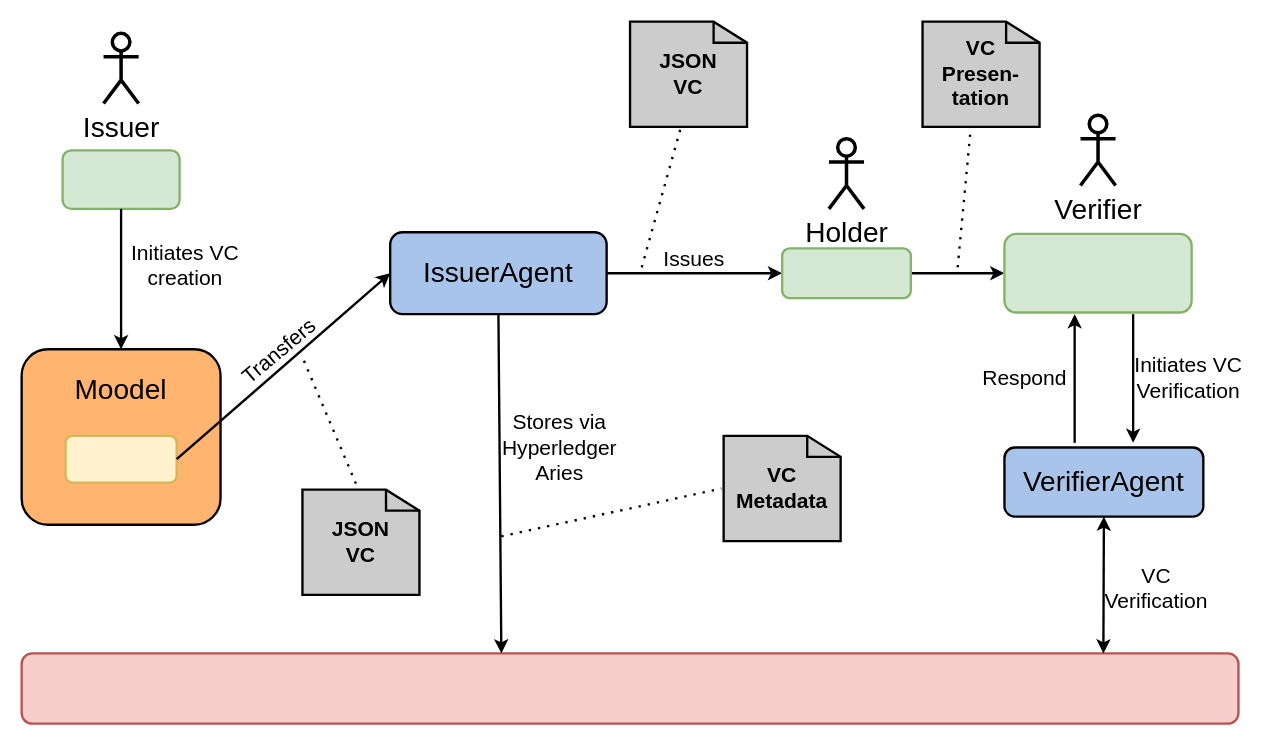
The diagram is 1264 pixels wide and 744 high, and some of its shapes have lost their labels. The centre of each missing label's shape, as x and y in pixels:
Organization: the point at 1097,272
Plugin: the point at 120,458
Teacher: the point at 120,179
Verifiable Data Registry: the point at 629,688
Wallet: the point at 845,273
